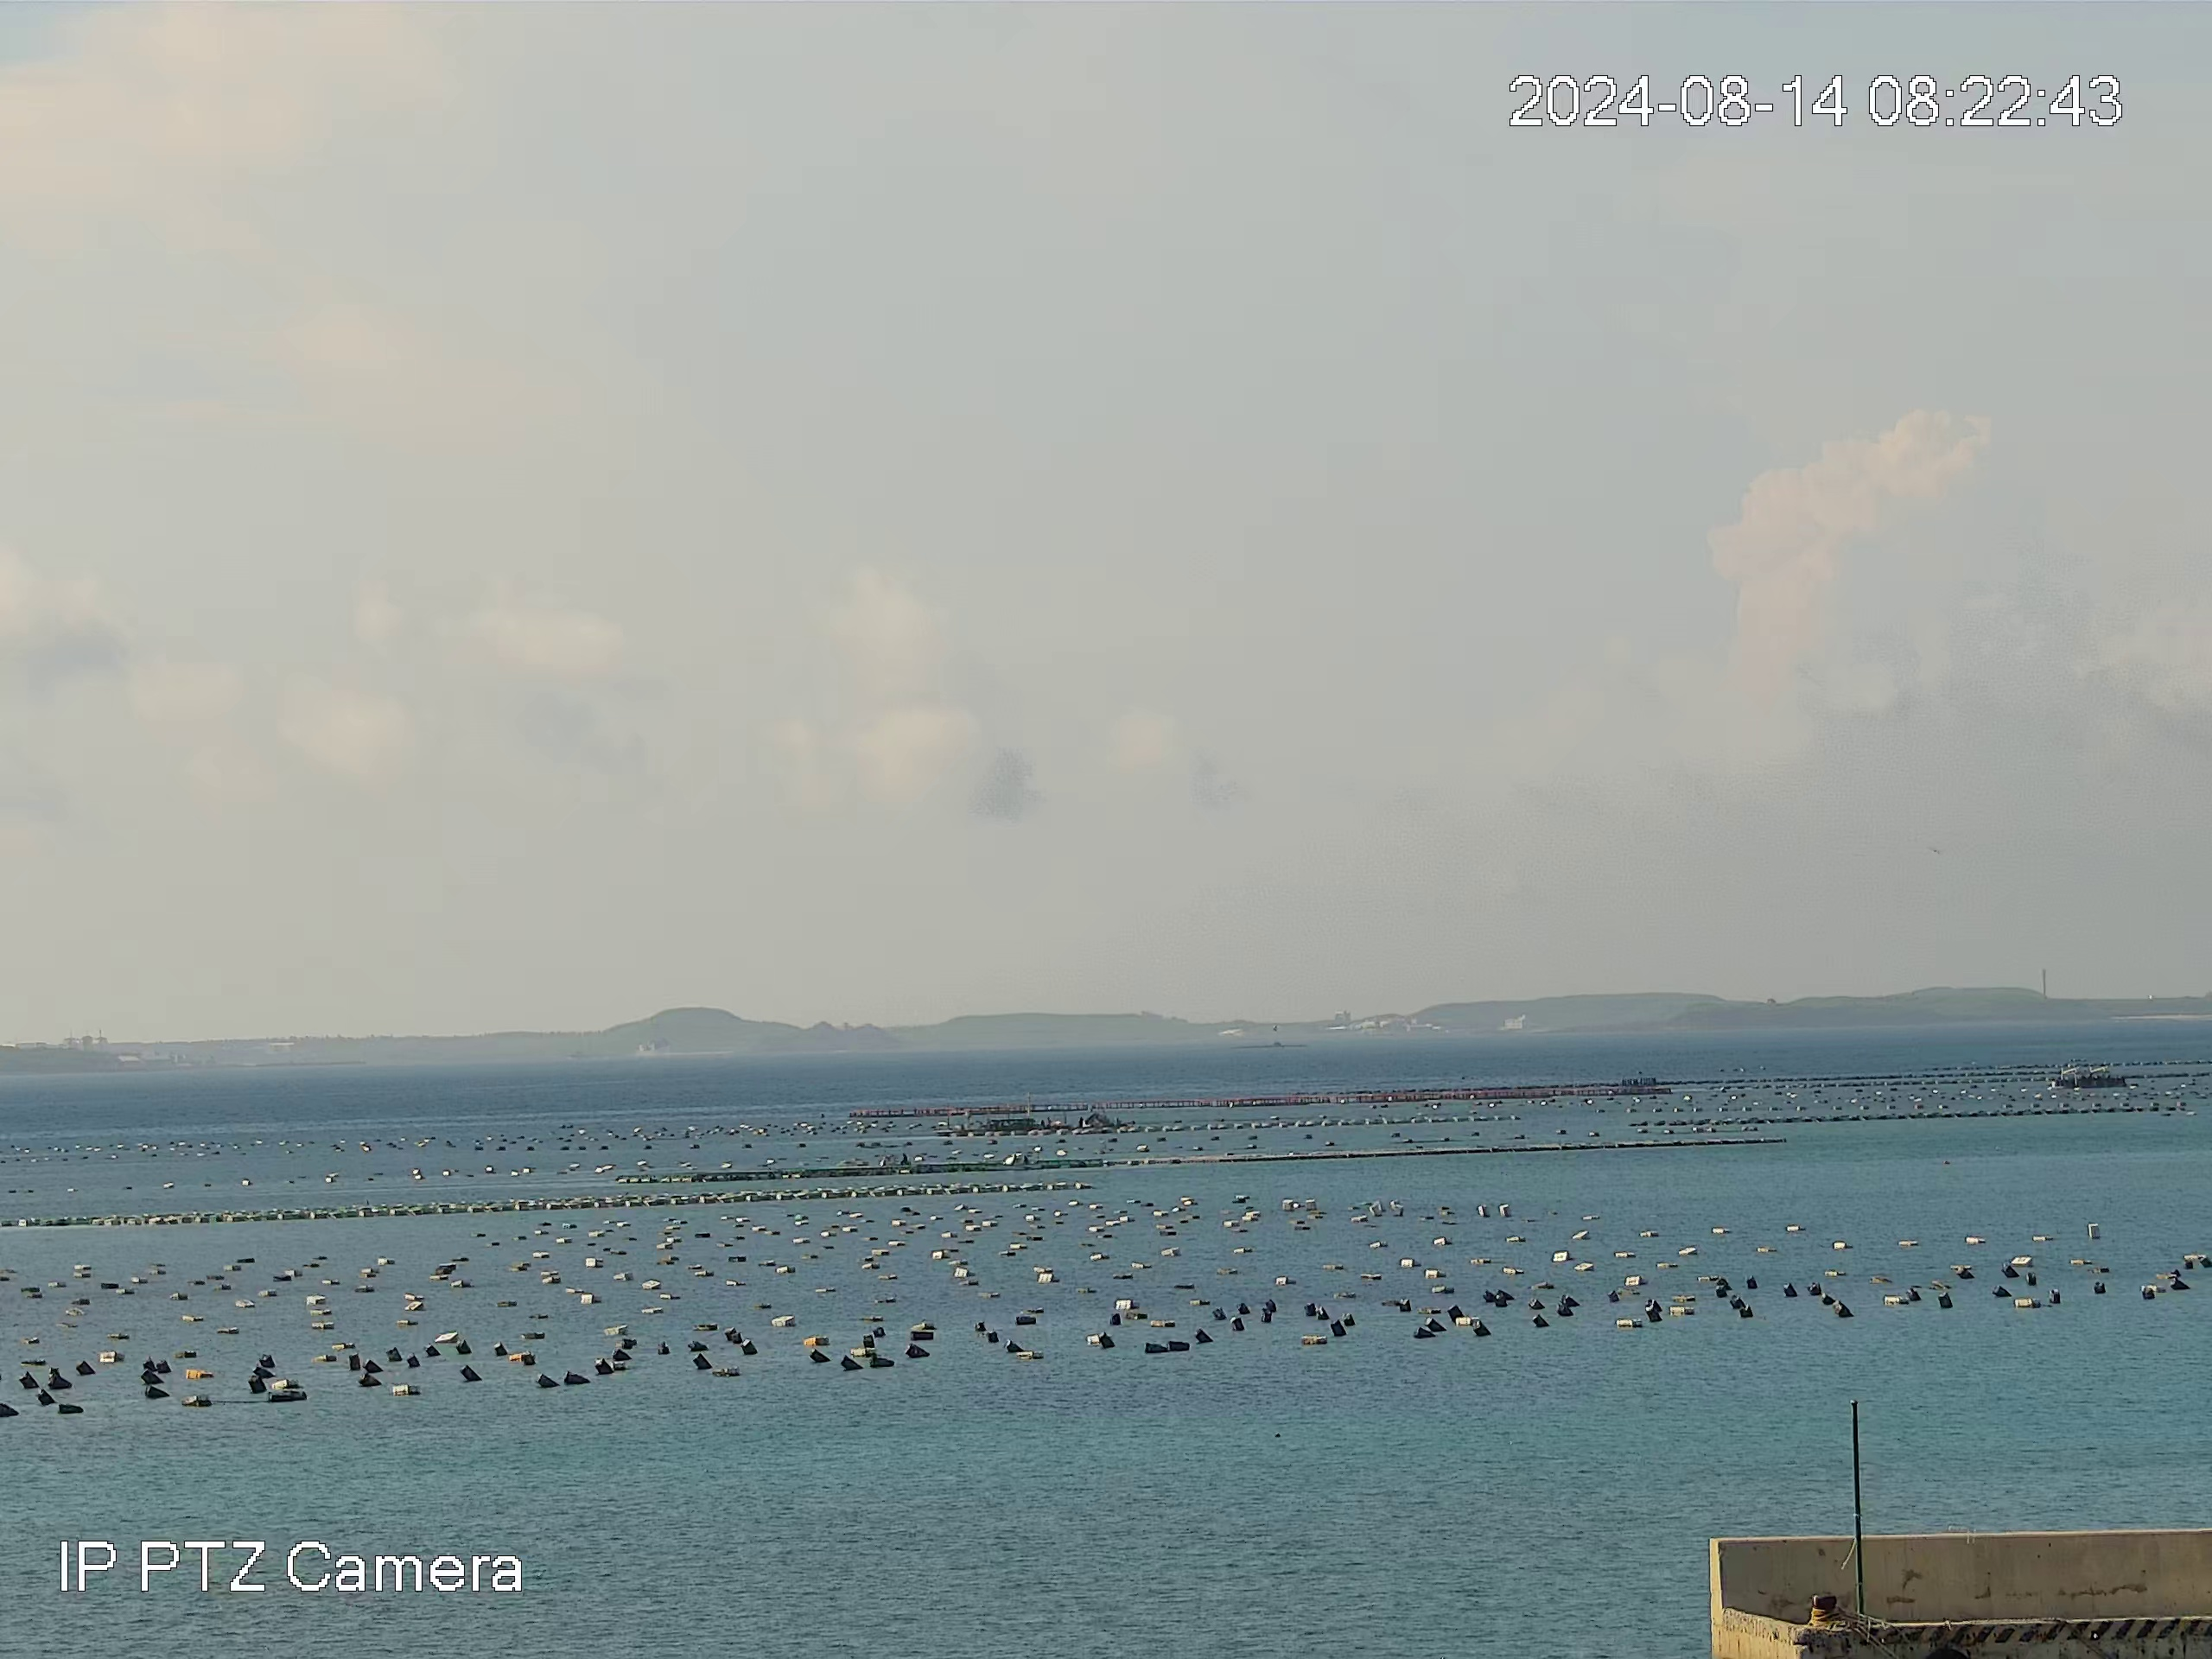boat: (2050, 1063, 2134, 1094)
